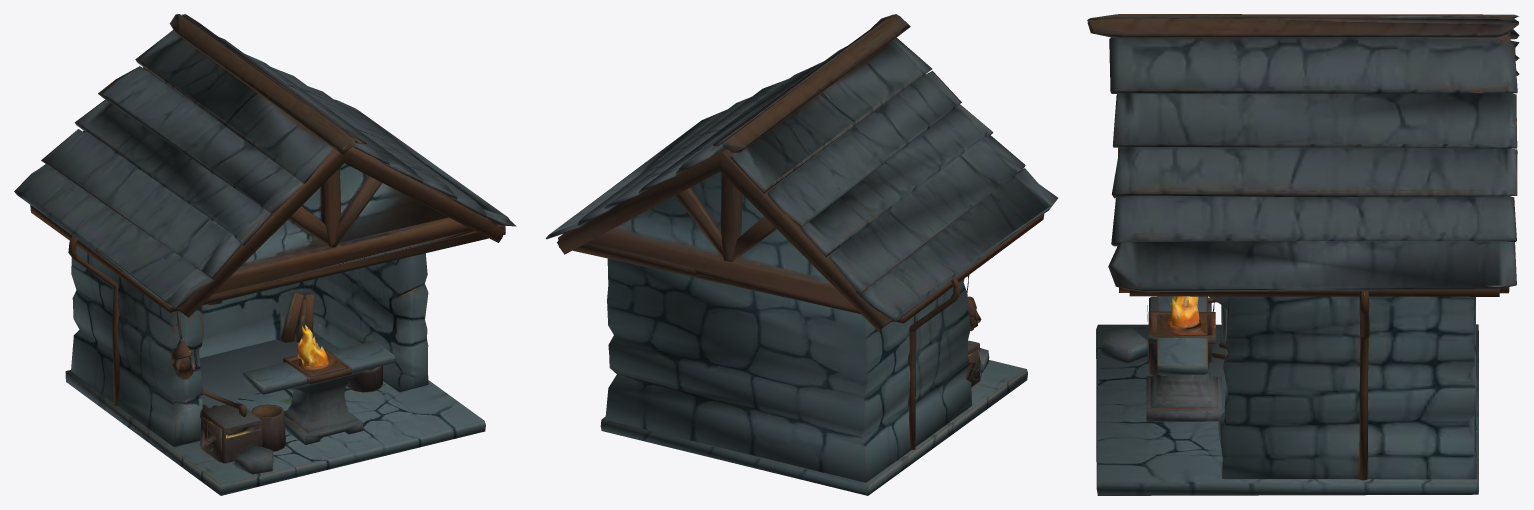
Rendered from blacksmithForge.glb.
3 renders of one model, left to right at view 1: azimuth 30°, elevation 25°; view 2: azimuth 150°, elevation 25°; view 3: azimuth 270°, elevation 25°, orthographic. The views are drawn at different scales.
Bounding box in the file's own units: 0.9512 × 0.8526 × 0.833.
1 material, 1 textured.
